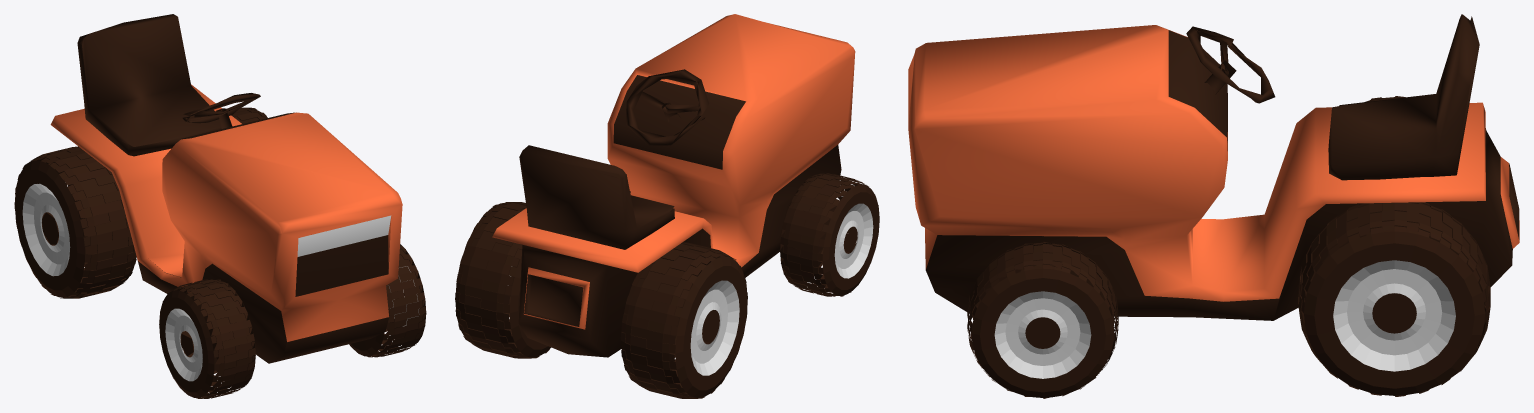
File: groundscare-default-thumb.glb
The picture shows the model from 3 angles, left to right: view 1: azimuth 30°, elevation 25°; view 2: azimuth 150°, elevation 25°; view 3: azimuth 270°, elevation 25°; orthographic projection. The views are drawn at different scales.
Visible parts, largest first — view 1: Groundscare_Web; view 2: Groundscare_Web; view 3: Groundscare_Web.
Part boxes in pixels (x1,y1,x2,y2): Groundscare_Web: [14, 14, 426, 398]; Groundscare_Web: [455, 14, 879, 398]; Groundscare_Web: [908, 14, 1519, 398].
Size of the model in its own units: 0.9621 by 0.9738 by 1.79.
